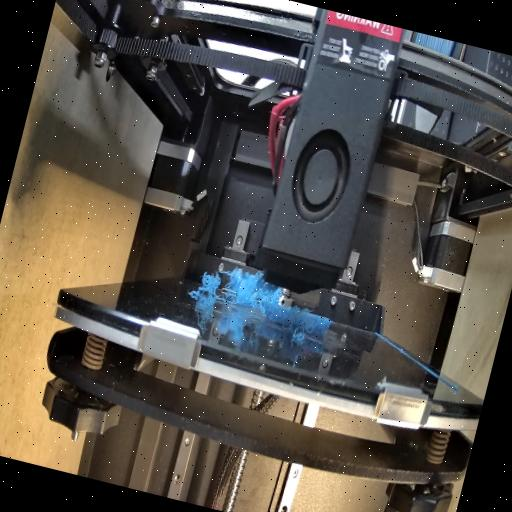spaghetti: (190, 264, 280, 320), (278, 302, 320, 348)
